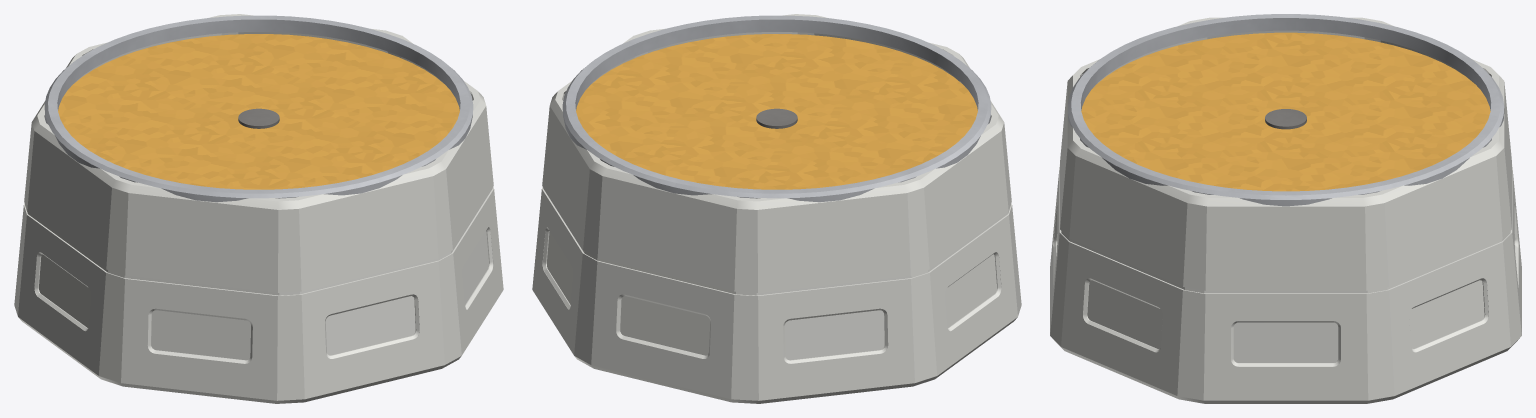
Rendered from ax_prop_20_thrust_structure_m_x4.glb.
3 renders of one model, left to right at view 1: azimuth 30°, elevation 25°; view 2: azimuth 150°, elevation 25°; view 3: azimuth 270°, elevation 25°, orthographic.
Parts seen in each view (by area): view 1: skirt, mli_floor, interface_ring, thrust_beams; view 2: skirt, mli_floor, interface_ring, thrust_beams; view 3: skirt, mli_floor, interface_ring, thrust_beams.
Boxes of the visible parts, box(x1,y1,x2,y2) form: skirt: box(14, 14, 503, 403); mli_floor: box(58, 34, 459, 189); interface_ring: box(44, 15, 473, 202); thrust_beams: box(238, 108, 279, 128); skirt: box(532, 14, 1021, 403); mli_floor: box(576, 34, 977, 189); interface_ring: box(562, 15, 991, 202); thrust_beams: box(756, 108, 797, 128); skirt: box(1050, 17, 1521, 403); mli_floor: box(1081, 32, 1490, 191); interface_ring: box(1067, 14, 1504, 206); thrust_beams: box(1265, 109, 1306, 129).
Size of the model in its own units: 2.7 by 1.27 by 2.7.
4 materials, 3 textured.
